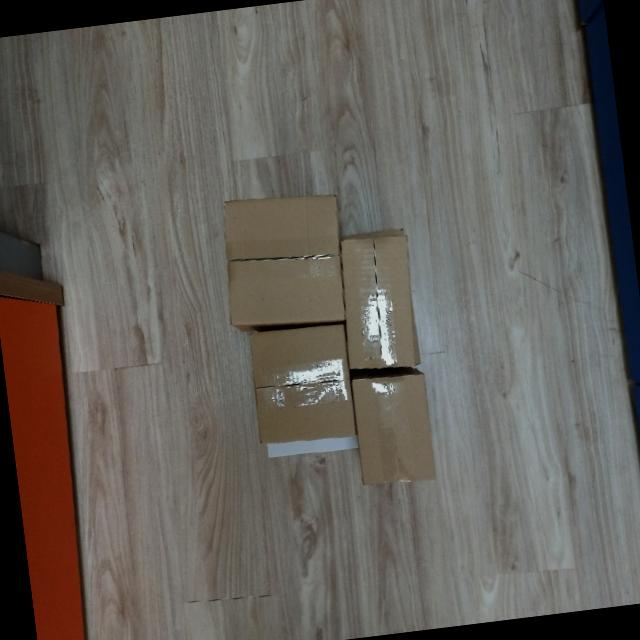box: (210, 182, 356, 338), (242, 318, 358, 448), (332, 227, 427, 376), (345, 364, 442, 492)
